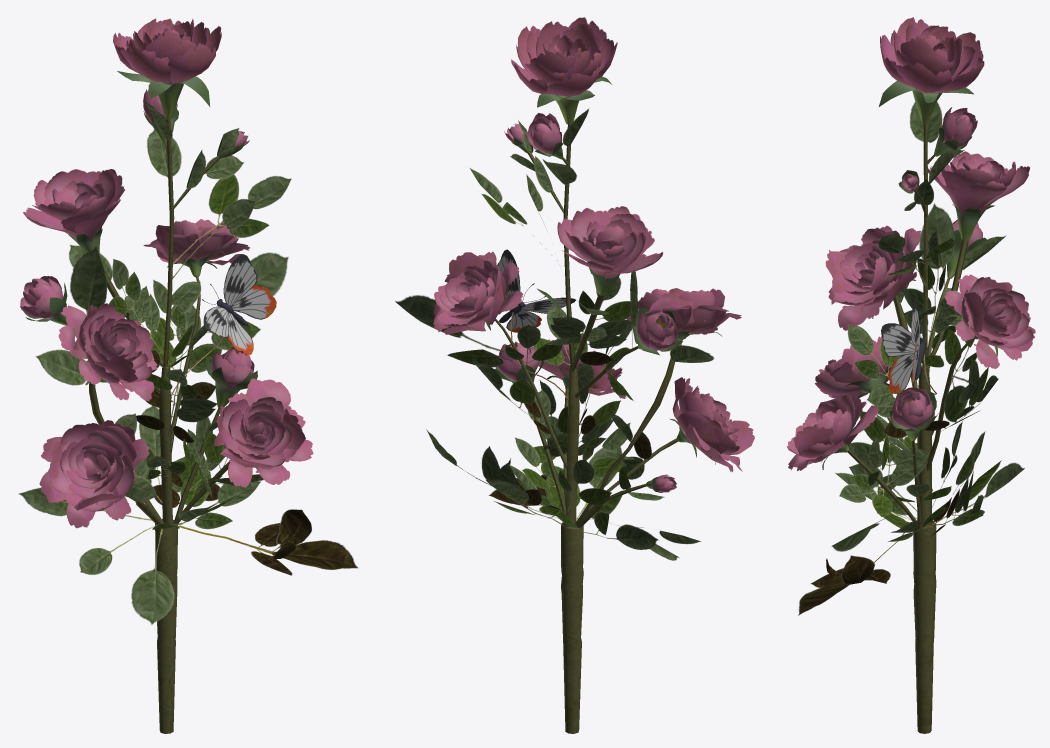
File: pinkrose粉玫瑰.glb
The picture shows the model from 3 angles, left to right: view 1: azimuth 30°, elevation 25°; view 2: azimuth 150°, elevation 25°; view 3: azimuth 270°, elevation 25°; orthographic projection.
Parts seen in each view (by area): view 1: Wolgyehwa_Tree, Wolgyehwa_Animal; view 2: Wolgyehwa_Tree, Wolgyehwa_Animal; view 3: Wolgyehwa_Tree, Wolgyehwa_Animal.
Part boxes in pixels (<box>): Wolgyehwa_Tree: <box>18,18,358,733</box>; Wolgyehwa_Animal: <box>170,254,276,397</box>; Wolgyehwa_Tree: <box>395,17,754,733</box>; Wolgyehwa_Animal: <box>497,249,575,401</box>; Wolgyehwa_Tree: <box>786,17,1035,733</box>; Wolgyehwa_Animal: <box>881,303,936,394</box>.
Bounding box in the file's own units: 0.22 × 0.5 × 0.1608.
Materials: 2 (2 with a texture image).
